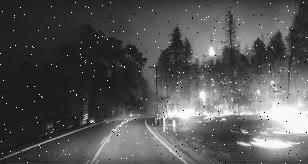fire: (160, 33, 308, 159)
